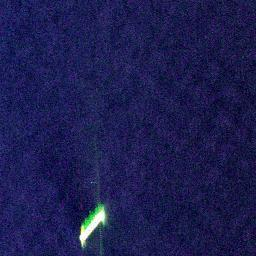Ship: (76, 205, 109, 246)
